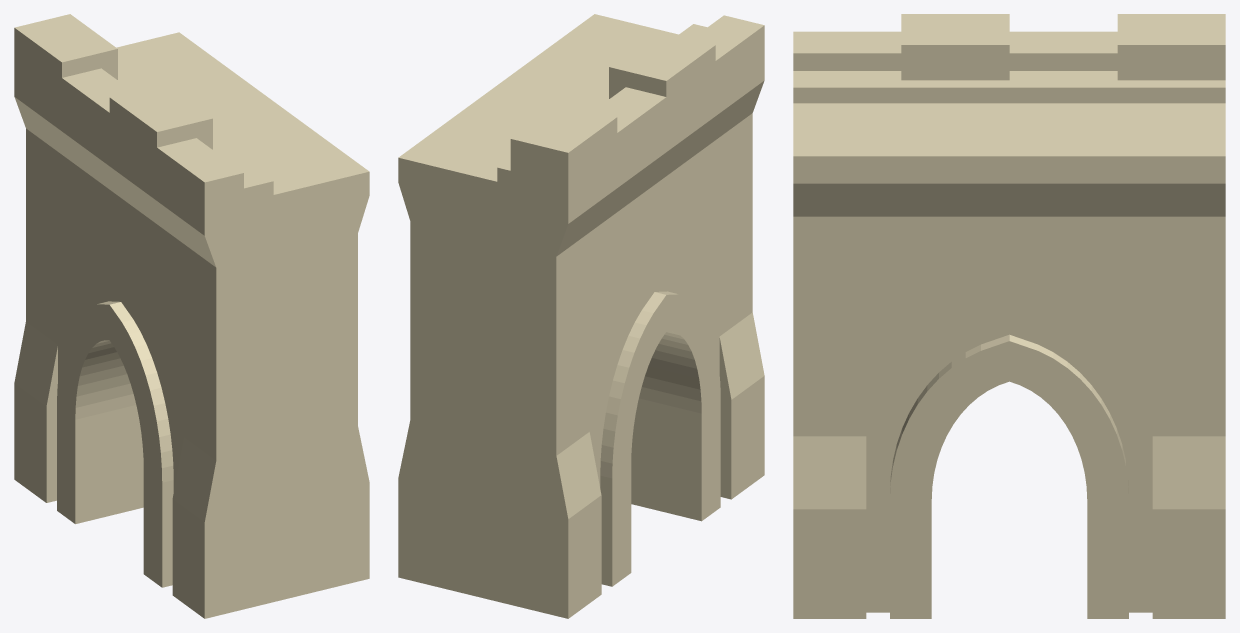
Rendered from walldoor.glb.
The picture shows the model from 3 angles, left to right: view 1: azimuth 30°, elevation 25°; view 2: azimuth 150°, elevation 25°; view 3: azimuth 270°, elevation 25°; orthographic projection. The views are drawn at different scales.
Visible parts, largest first — view 1: wallDoor; view 2: wallDoor; view 3: wallDoor.
Boxes of the visible parts, left/top/right/bottom form: wallDoor: left=14, top=14, right=369, bottom=618; wallDoor: left=398, top=14, right=764, bottom=618; wallDoor: left=793, top=14, right=1225, bottom=618.
Size of the model in its own units: 5 by 13.1 by 10.
